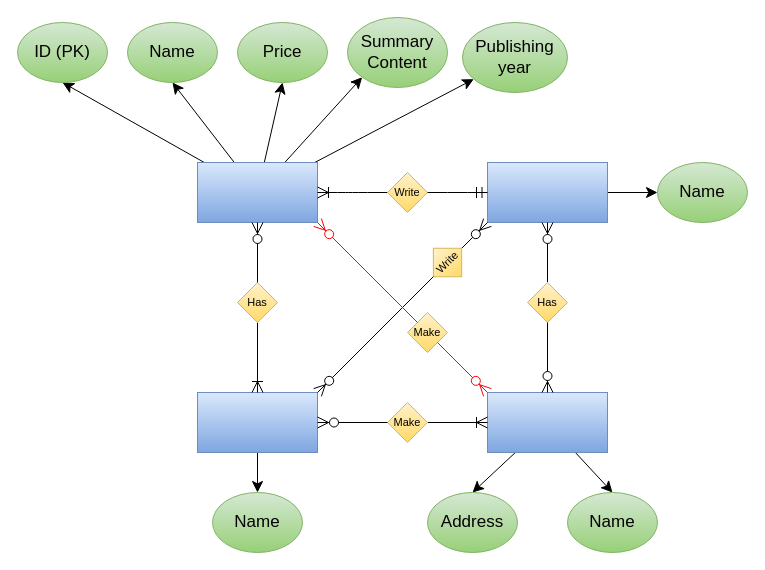
The diagram is 765 pixels wide and 570 high, and some of its shapes have lost their labels. The shapes that lost their labels are listed below. From the top down, each one's centre as x and y in pixels, then its label:
At (x=257, y=192): "Book".
At (x=547, y=192): "Author".
At (x=257, y=422): "Type of Book".
At (x=547, y=422): "Publisher".
